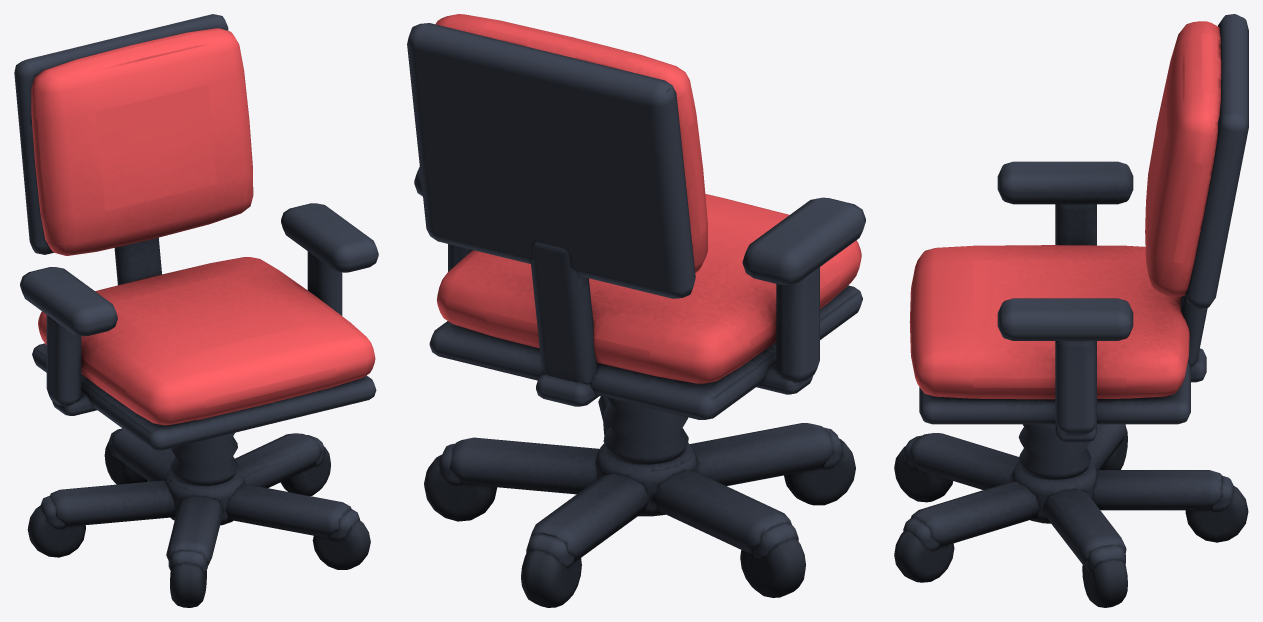
The model's file is office_chair.glb.
3 renders of one model, left to right at view 1: azimuth 30°, elevation 25°; view 2: azimuth 150°, elevation 25°; view 3: azimuth 270°, elevation 25°, orthographic. The views are drawn at different scales.
Parts seen in each view (by area): view 1: office_chair; view 2: office_chair; view 3: office_chair.
Part boxes in pixels (left/top/right/bottom): office_chair: left=14, top=14, right=378, bottom=607; office_chair: left=407, top=14, right=865, bottom=607; office_chair: left=894, top=14, right=1248, bottom=607.
Bounding box in the file's own units: 0.73 × 1.01 × 0.6797.
4 materials, 4 textured.
